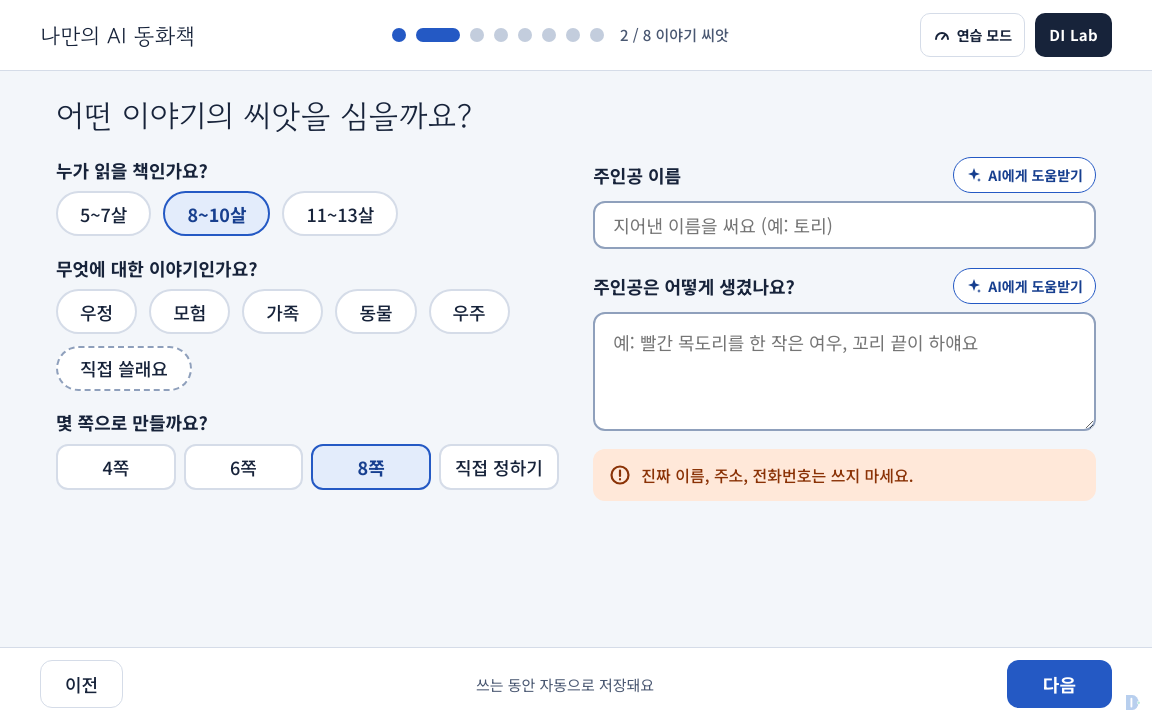
Test: SeedScreen › next without a topic shows a notice and stays on the screen
Step 1. Click the button "다음" → (1059, 684), box [1007,660,1112,708]
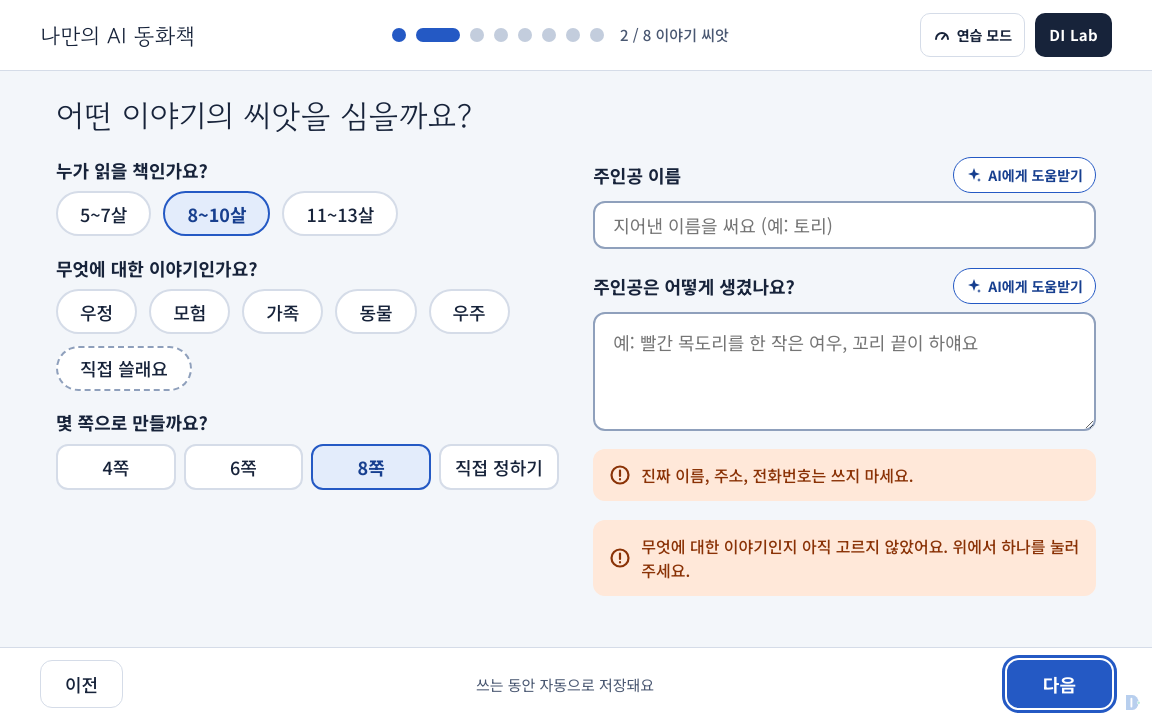
Expected: the message "무엇에 대한 이야기인지 아직 고르지 않았어요. 위에서 하나를 눌러 주세요." is shown, [593,520,1096,596]
